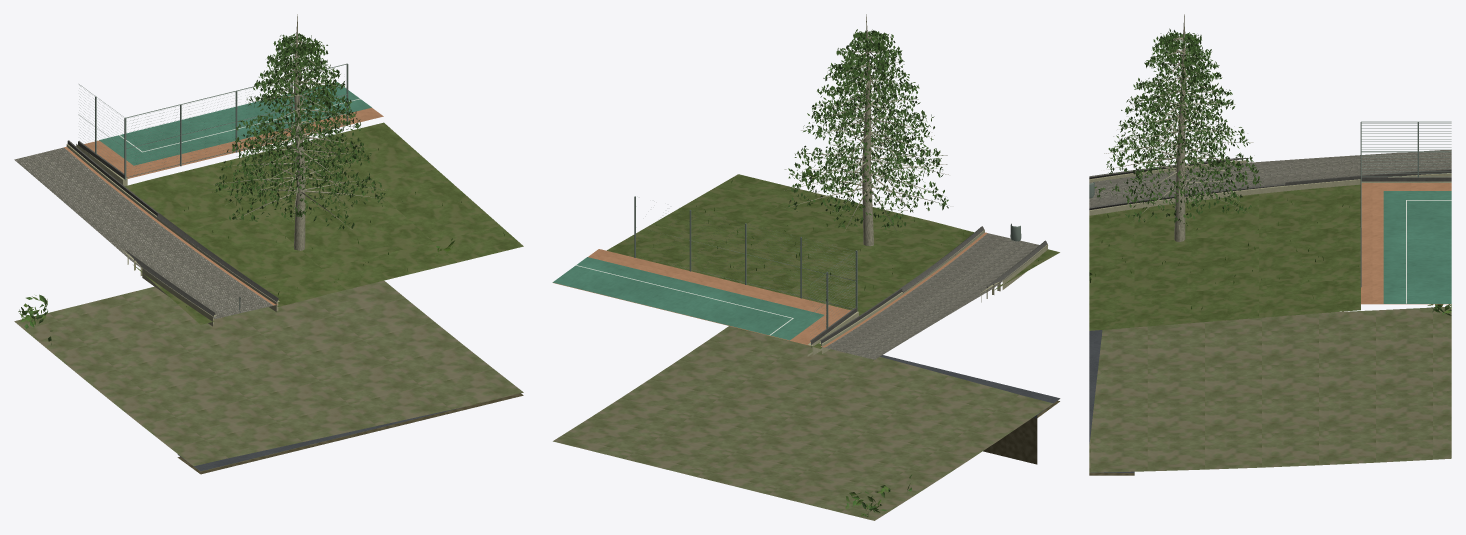
3 renders of one model, left to right at view 1: azimuth 30°, elevation 25°; view 2: azimuth 150°, elevation 25°; view 3: azimuth 270°, elevation 25°, orthographic. The views are drawn at different scales.
Size of the model in its own units: 16 by 20.59 by 16.
17 materials, 15 textured.
